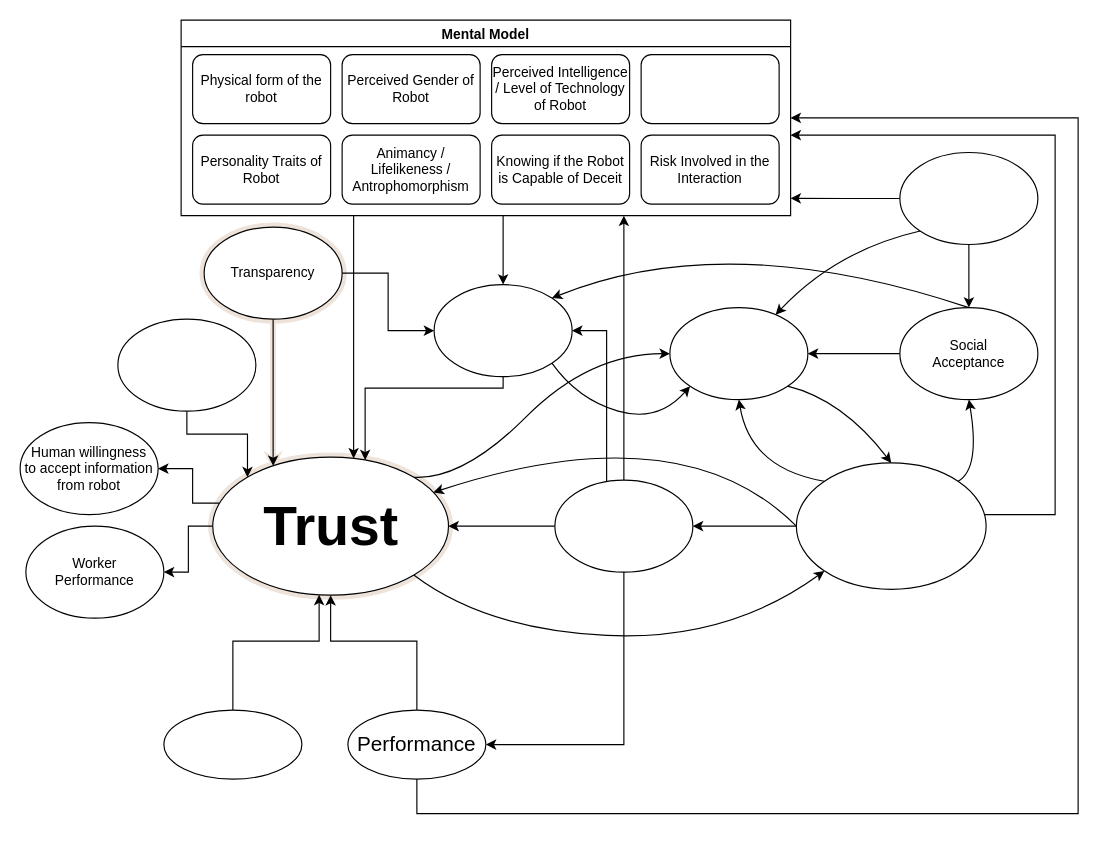
The diagram is 1107 pixels wide and 843 high, and some of its shapes have lost their labels. Each missing label, with the centre of its shape:
"Experience with Robots" belongs at point (623, 525).
"Individual Acceptance" belongs at point (738, 353).
"Predictability" belongs at point (186, 364).
"Reliability" belongs at point (232, 744).
"Sense of attachment towards the robot" belongs at point (709, 88).
"Understanding of the robot" belongs at point (502, 330).
"Use" belongs at point (890, 525).
"Users Personality Traits / Demographics" belongs at point (968, 197).
